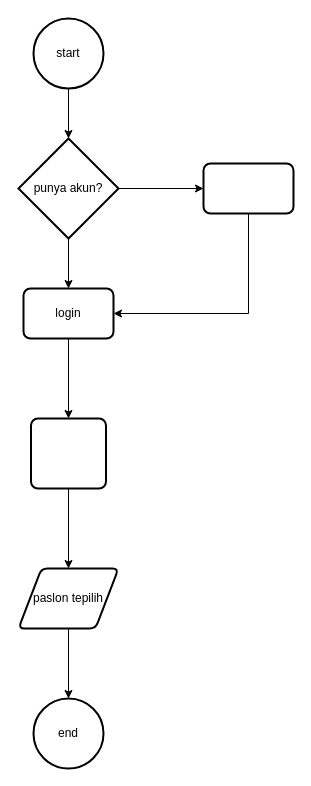
The diagram is 311 pixels wide and 786 high, and some of its shapes have lost their labels. Here are the shapes that lost their labels. From the top down, the centre of each, then its label:
At (248,188): "register".
At (68,453): "milih paslon".
